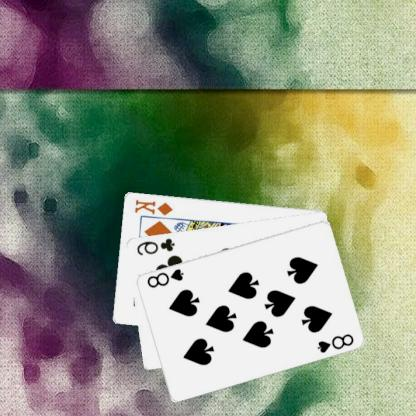6C: (136, 235, 177, 256)
8S: (145, 266, 187, 289), (316, 331, 356, 354)
KD: (133, 197, 176, 217)
